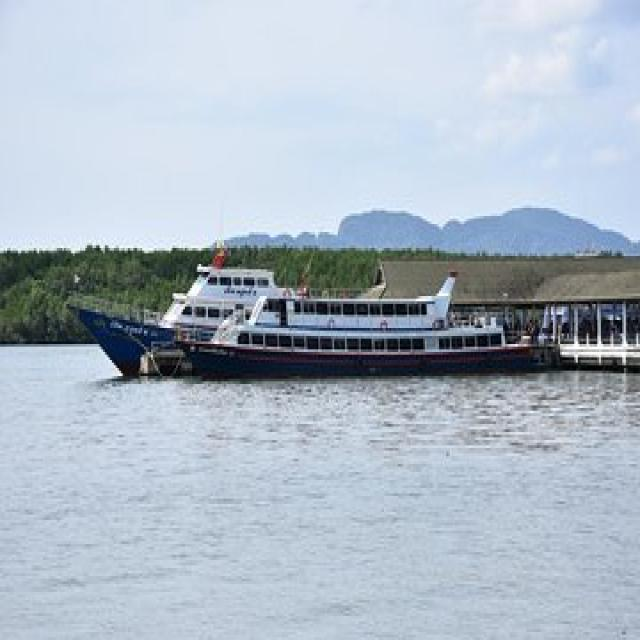passenger ship: (80, 229, 551, 375), (150, 306, 542, 398)
